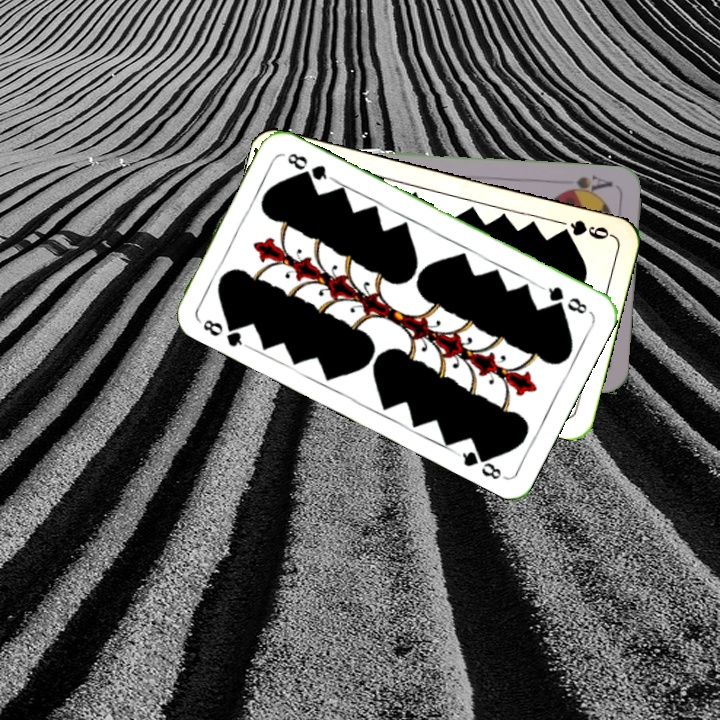G8: (537, 282, 590, 317), (199, 315, 249, 350)
G9: (554, 216, 615, 242)
SA: (556, 171, 615, 198)
